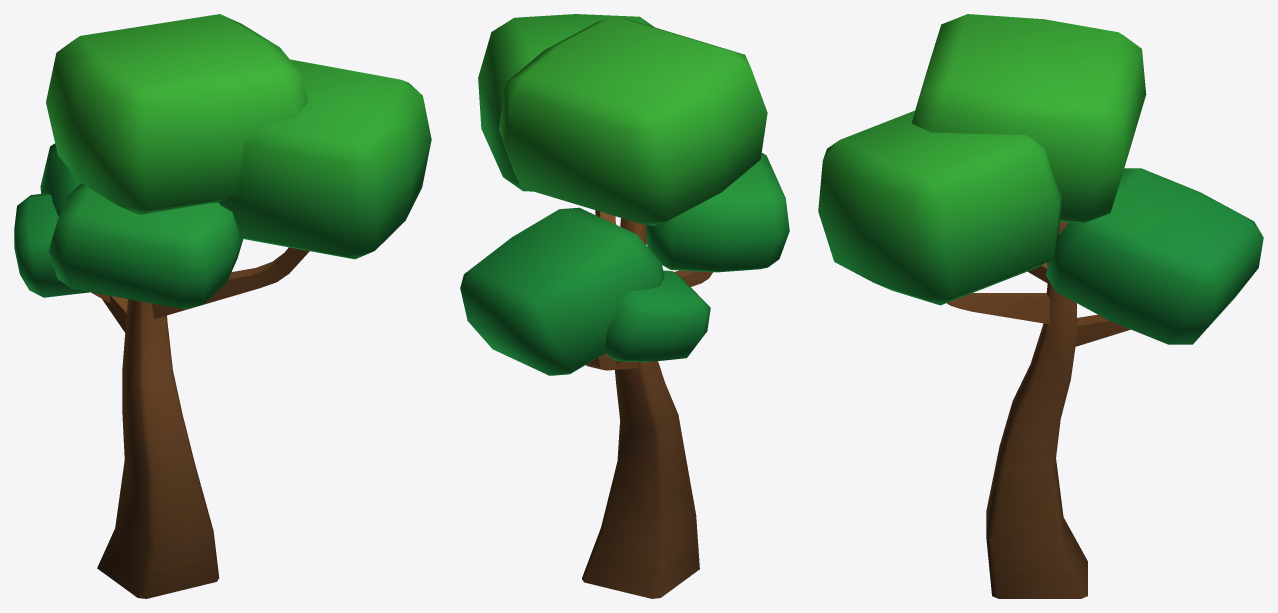
The model's file is Tree_D_7_.fbx.
The picture shows the model from 3 angles, left to right: view 1: azimuth 30°, elevation 25°; view 2: azimuth 150°, elevation 25°; view 3: azimuth 270°, elevation 25°; orthographic projection. The views are drawn at different scales.
Parts seen in each view (by area): view 1: Tree_D_7; view 2: Tree_D_7; view 3: Tree_D_7.
Part boxes in pixels (<box>): Tree_D_7: <box>14,14,431,598</box>; Tree_D_7: <box>460,14,789,598</box>; Tree_D_7: <box>818,14,1263,598</box>.
Bounding box in the file's own units: 295 × 438 × 329.
